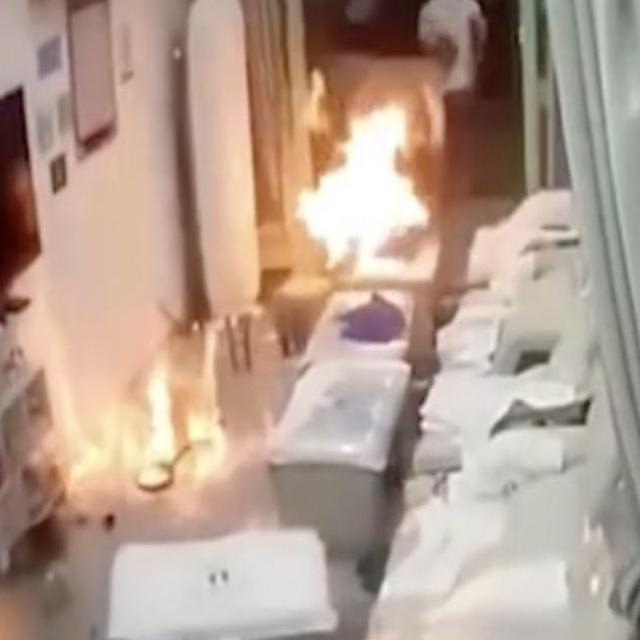smoke: (40, 344, 244, 497), (292, 102, 429, 284)
